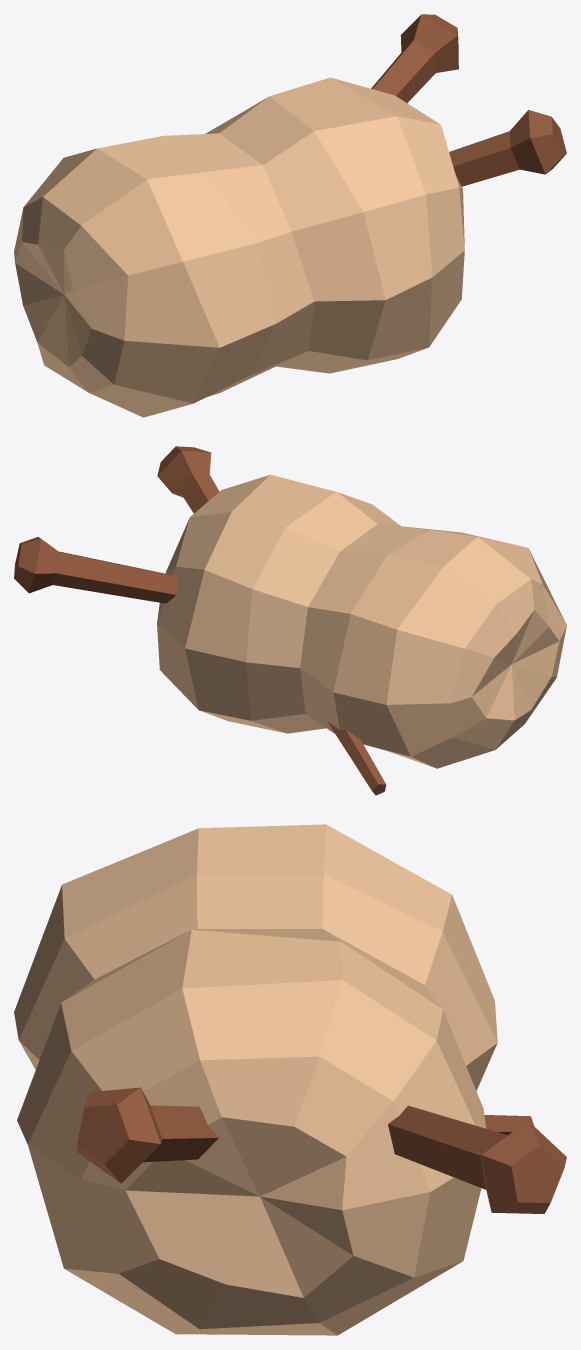
Rendered from clew_with_needles.fbx.
3 renders of one model, top to bottom at view 1: azimuth 30°, elevation 25°; view 2: azimuth 150°, elevation 25°; view 3: azimuth 270°, elevation 25°, orthographic. The views are drawn at different scales.
Parts seen in each view (by area): view 1: clew_with_needles; view 2: clew_with_needles; view 3: clew_with_needles.
Part boxes in pixels (x1,y1,x2,y2): clew_with_needles: [14, 14, 566, 417]; clew_with_needles: [14, 446, 566, 795]; clew_with_needles: [14, 824, 566, 1335].
Bounding box in the file's own units: 44.51 × 20.86 × 29.58.
